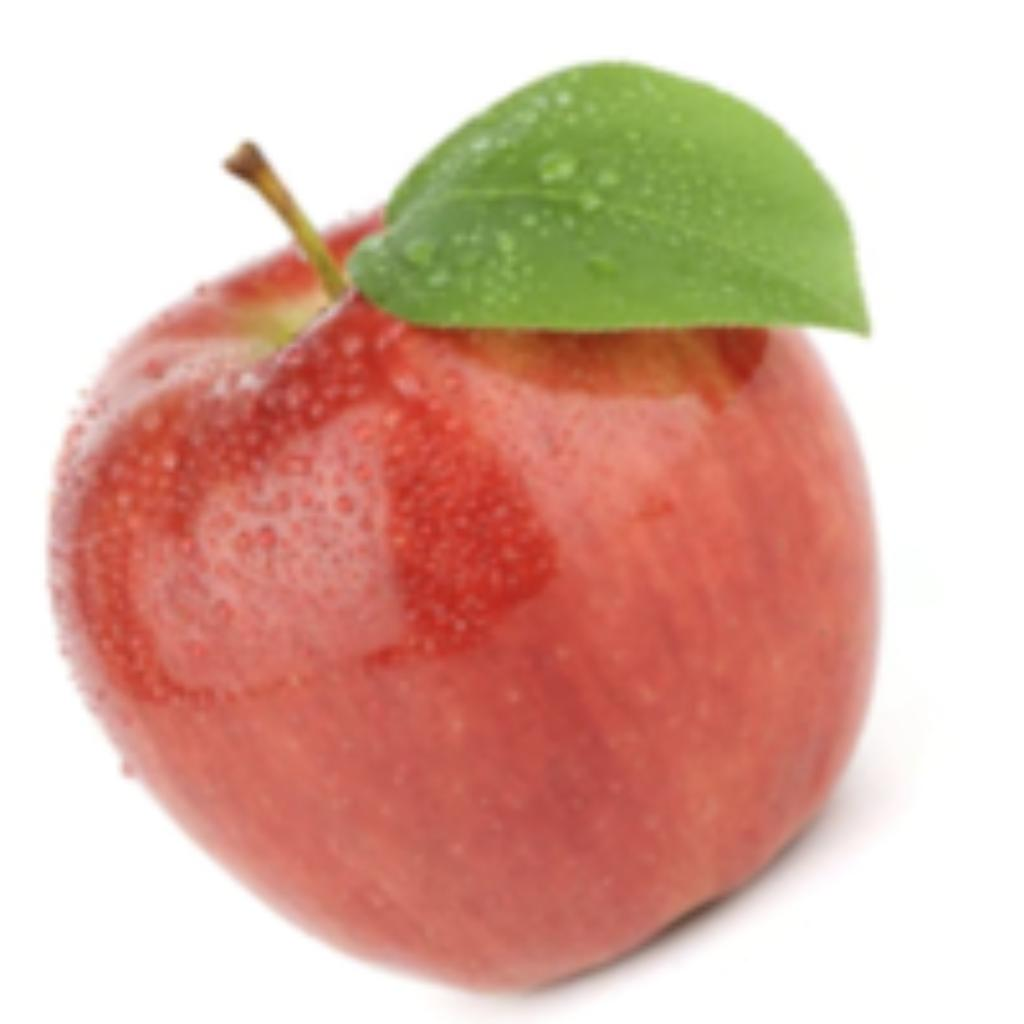apple: (36, 51, 911, 1019)
